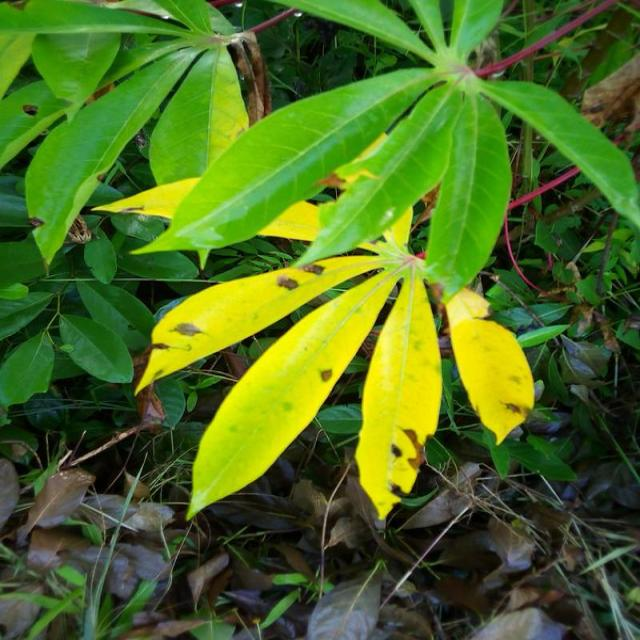cassava leaf: (118, 1, 638, 525), (130, 65, 440, 270), (185, 261, 406, 522)
